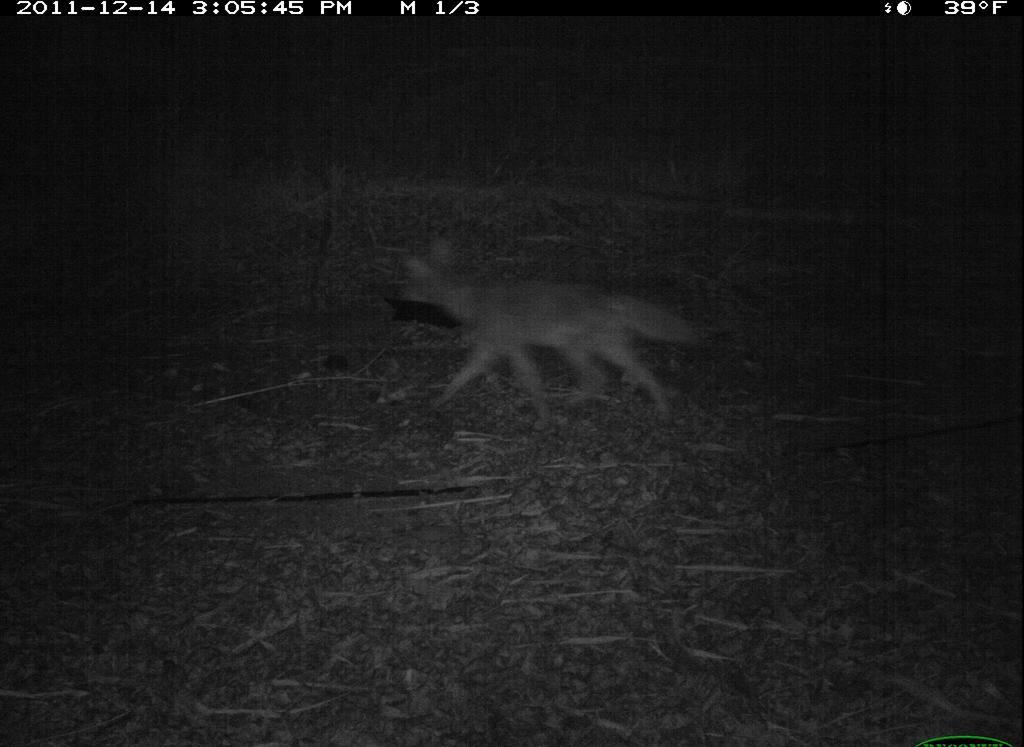coyote: (397, 233, 699, 432)
